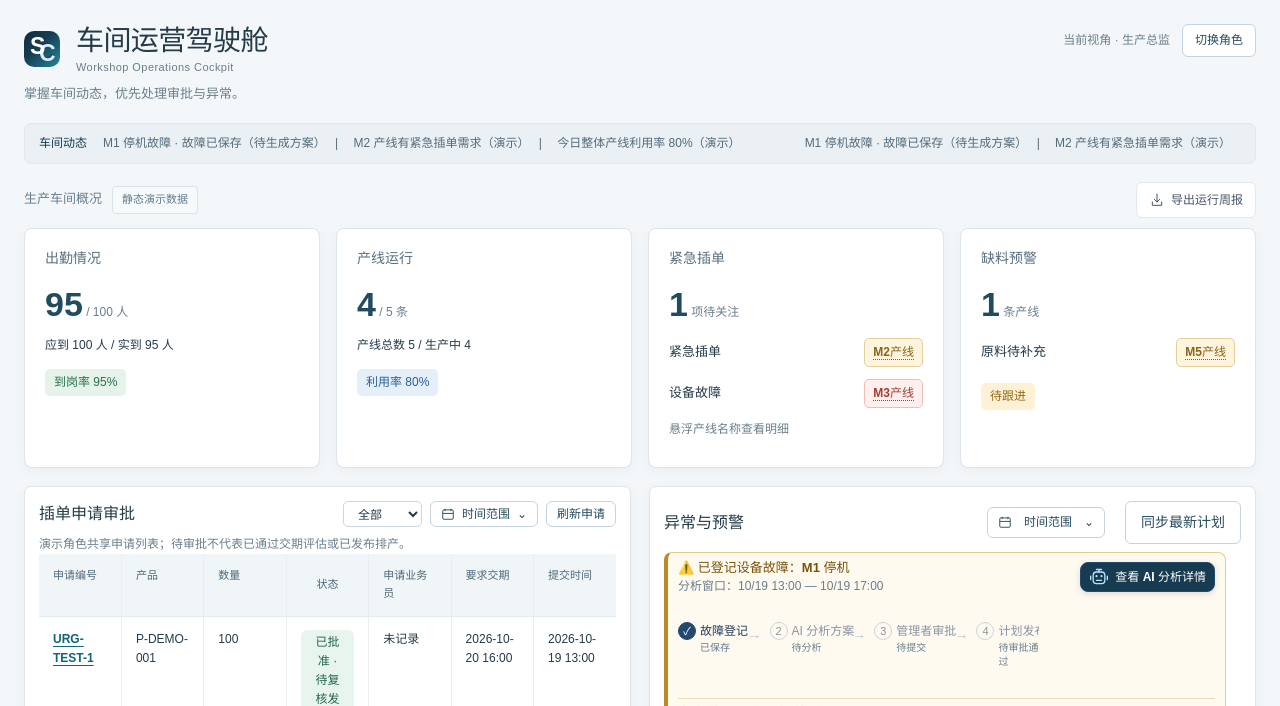
it: opens approved history read-only in the manager drawer
What coordinates should you click on to do the following:
click the button "URG-TEST-1"
I would click on:
 (80, 649)
Its box is [53, 630, 107, 668].
(page scrolled)
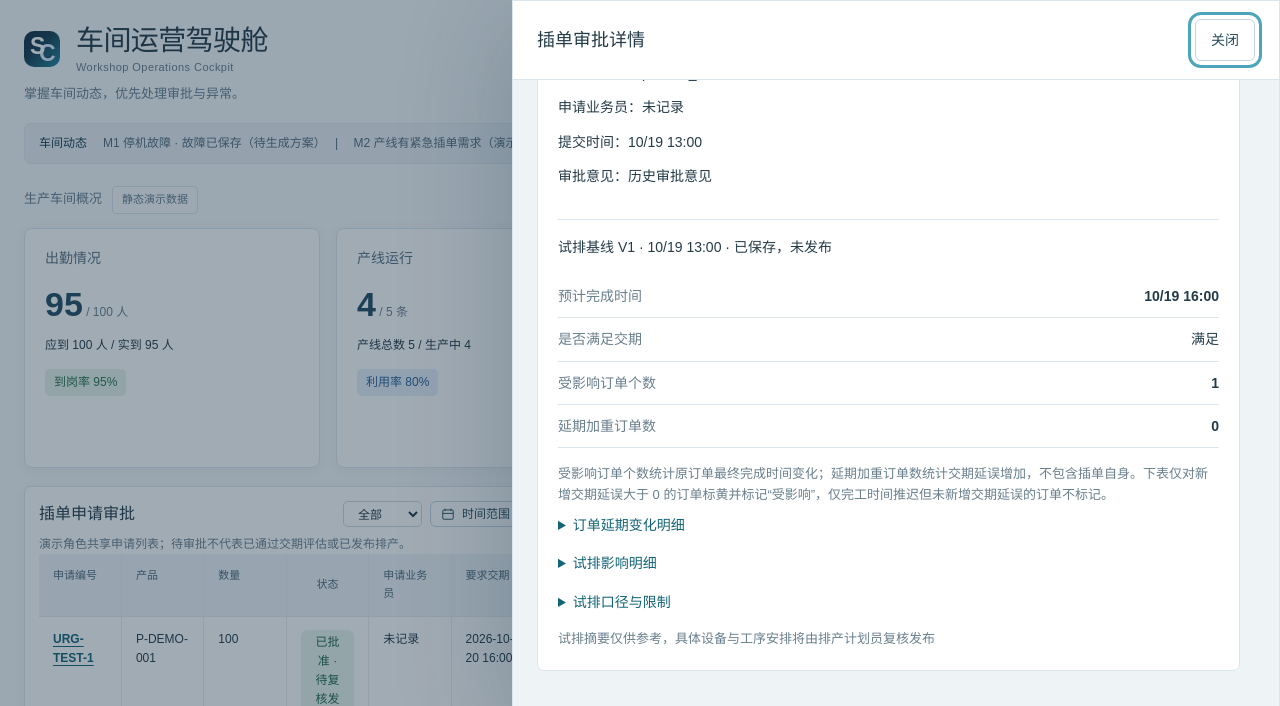
Now the text "审批意见：历史审批意见" is shown, box [558, 168, 712, 184]
Now the heading "订单延期变化明细" is shown, box [573, 517, 685, 533]
